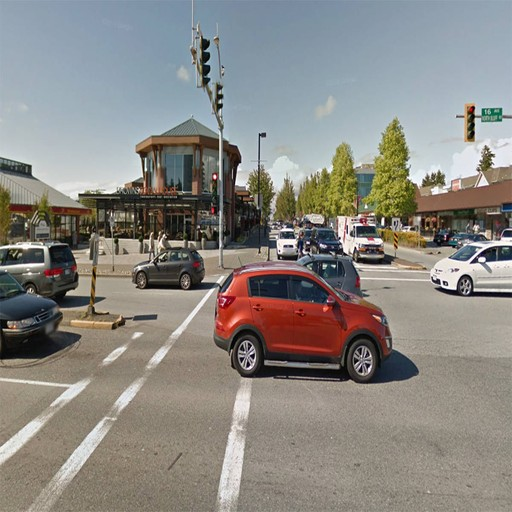car: (212, 258, 401, 388), (1, 263, 67, 353), (427, 237, 512, 302), (1, 237, 81, 300), (128, 243, 209, 293), (285, 250, 364, 300)
truck: (333, 210, 386, 263)
